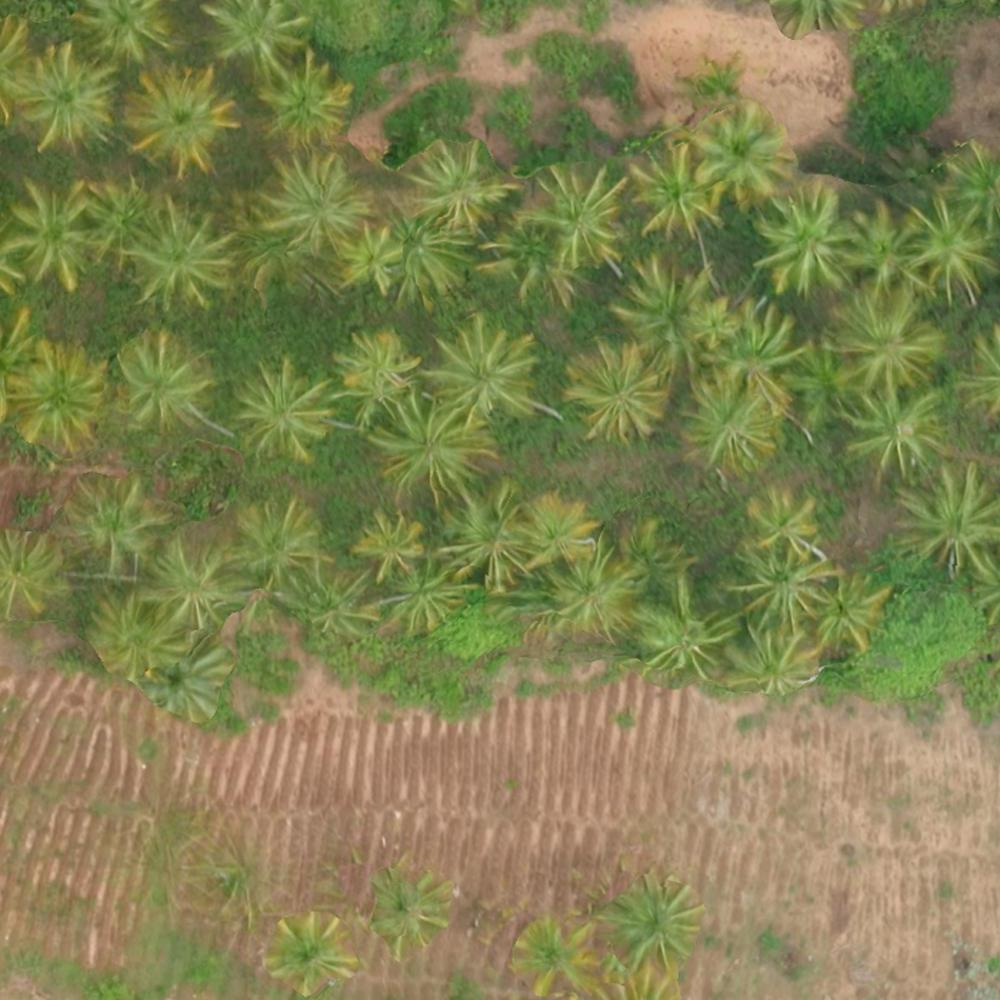Palm: (377, 395, 498, 507), (120, 65, 236, 174), (122, 198, 231, 309), (426, 312, 535, 421), (1, 336, 108, 445), (516, 164, 626, 269), (827, 288, 940, 390), (899, 462, 1000, 570), (759, 189, 860, 295), (435, 475, 532, 585), (259, 151, 365, 251), (600, 874, 709, 971), (7, 174, 98, 290), (682, 373, 783, 477), (62, 472, 166, 572), (894, 196, 991, 302), (88, 585, 190, 684), (562, 336, 666, 433), (729, 536, 834, 630), (10, 43, 112, 139), (692, 102, 793, 198), (401, 140, 507, 229), (845, 389, 943, 481), (616, 260, 708, 357), (111, 329, 204, 424), (379, 548, 472, 643), (236, 361, 327, 458), (201, 1, 309, 79), (148, 532, 240, 623), (842, 200, 929, 295), (233, 493, 330, 578), (625, 145, 717, 233), (257, 62, 350, 147), (714, 296, 802, 384), (808, 568, 895, 656), (368, 865, 454, 951), (1, 526, 75, 624), (333, 327, 412, 415), (265, 913, 355, 989), (82, 174, 152, 269), (742, 483, 825, 563), (512, 918, 593, 997), (521, 489, 600, 569), (298, 571, 384, 644), (350, 506, 432, 579), (332, 224, 403, 298)
